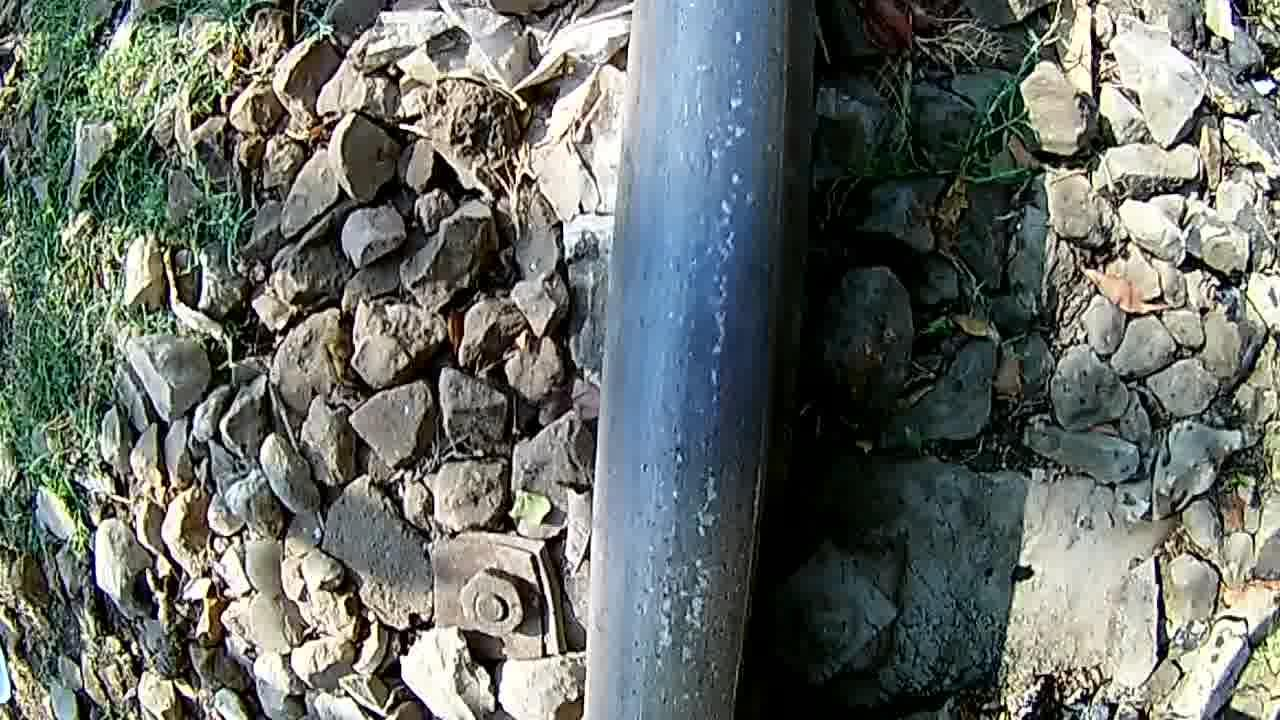clip_missing: (598, 0, 798, 720)
